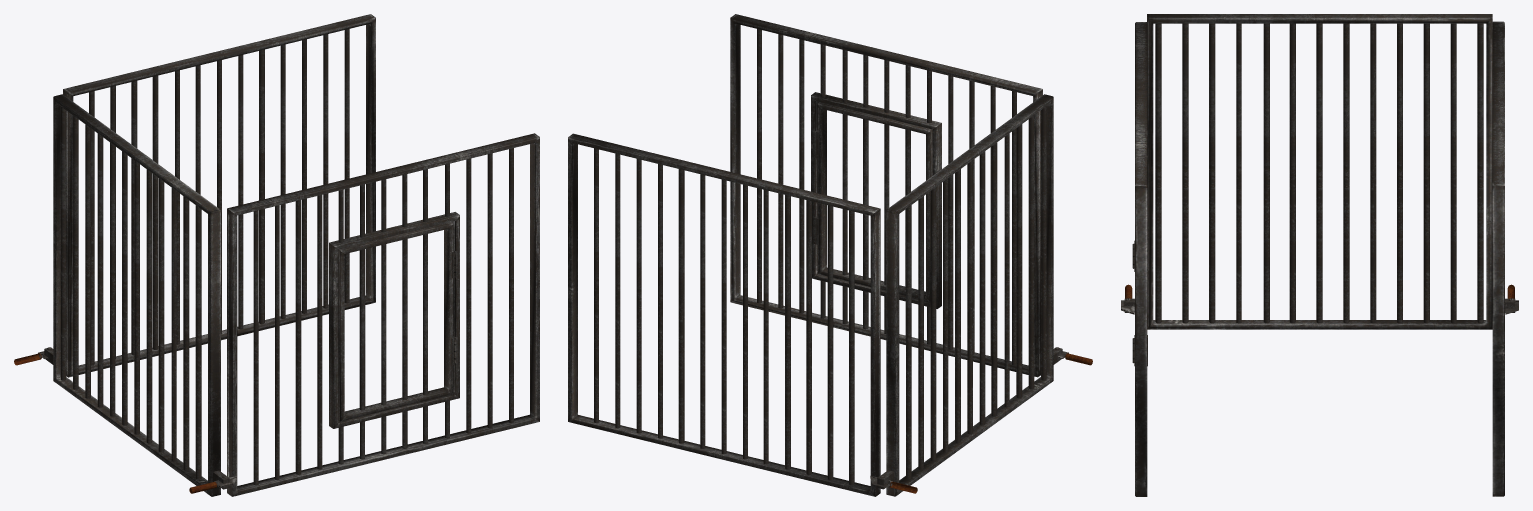
Rendered from cage_down.DAE.
3 views of the same model, side by side, from view 1: azimuth 30°, elevation 25°; view 2: azimuth 150°, elevation 25°; view 3: azimuth 270°, elevation 25° (orthographic). The views are drawn at different scales.
Visible parts, largest first — view 1: cage_down, bed_cage_down_door; view 2: cage_down, bed_cage_down_door; view 3: cage_down.
Part boxes in pixels (x1,y1,x2,y2): cage_down: (14, 14, 539, 496); bed_cage_down_door: (338, 221, 454, 421); cage_down: (568, 14, 1092, 496); bed_cage_down_door: (816, 102, 932, 301); cage_down: (1121, 14, 1518, 496).
Size of the model in its own units: 1.84 by 1.64 by 1.42.
